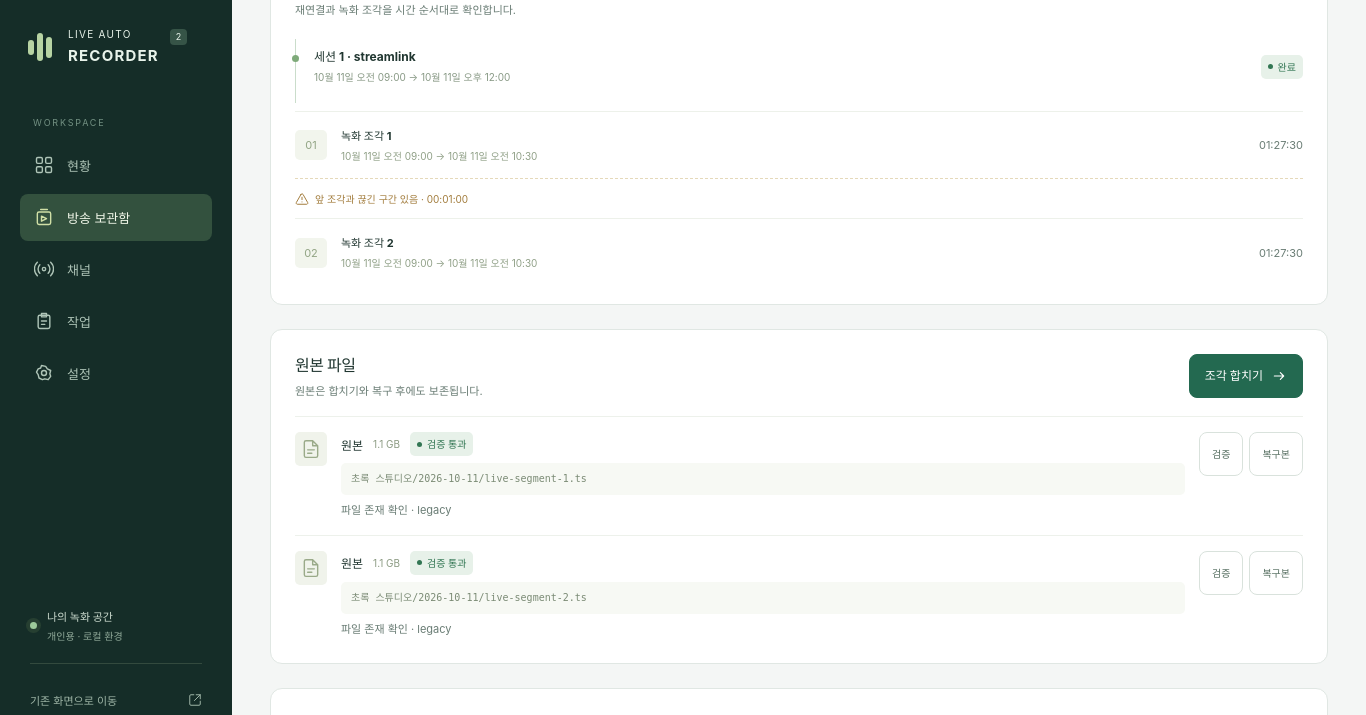
Scenario: merge preview preserves order and submits the observed detail revision
(page scrolled)
Click the button "조각 합치기".
click(1246, 376)  # box [1189,354,1303,398]
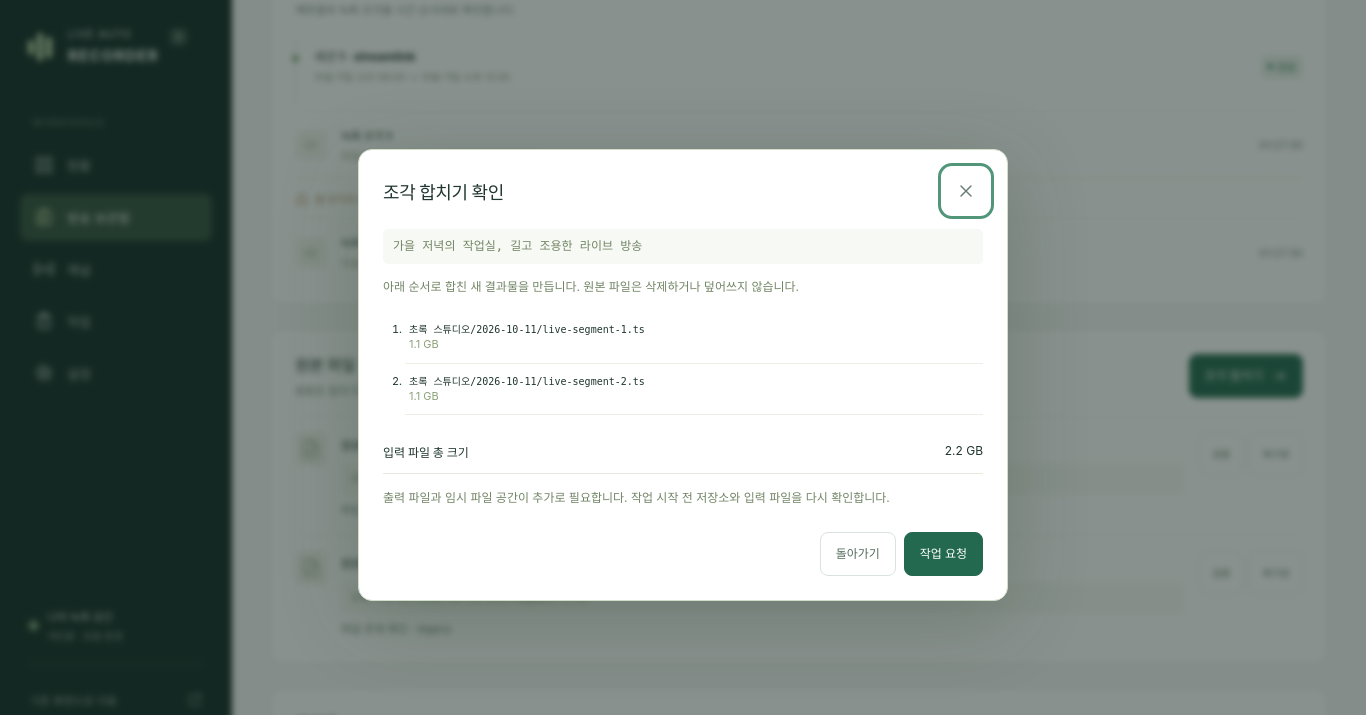
Expected: the list item "초록 스튜디오/2026-10-11/live-segment-1.ts 1.1 GB" is shown, [405,312,983,364]
Expected: the list item "초록 스튜디오/2026-10-11/live-segment-2.ts 1.1 GB" is shown, [405,364,983,415]
Click the button "작업 요청".
click(943, 554)  # box [904,532,983,576]
(page scrolled)
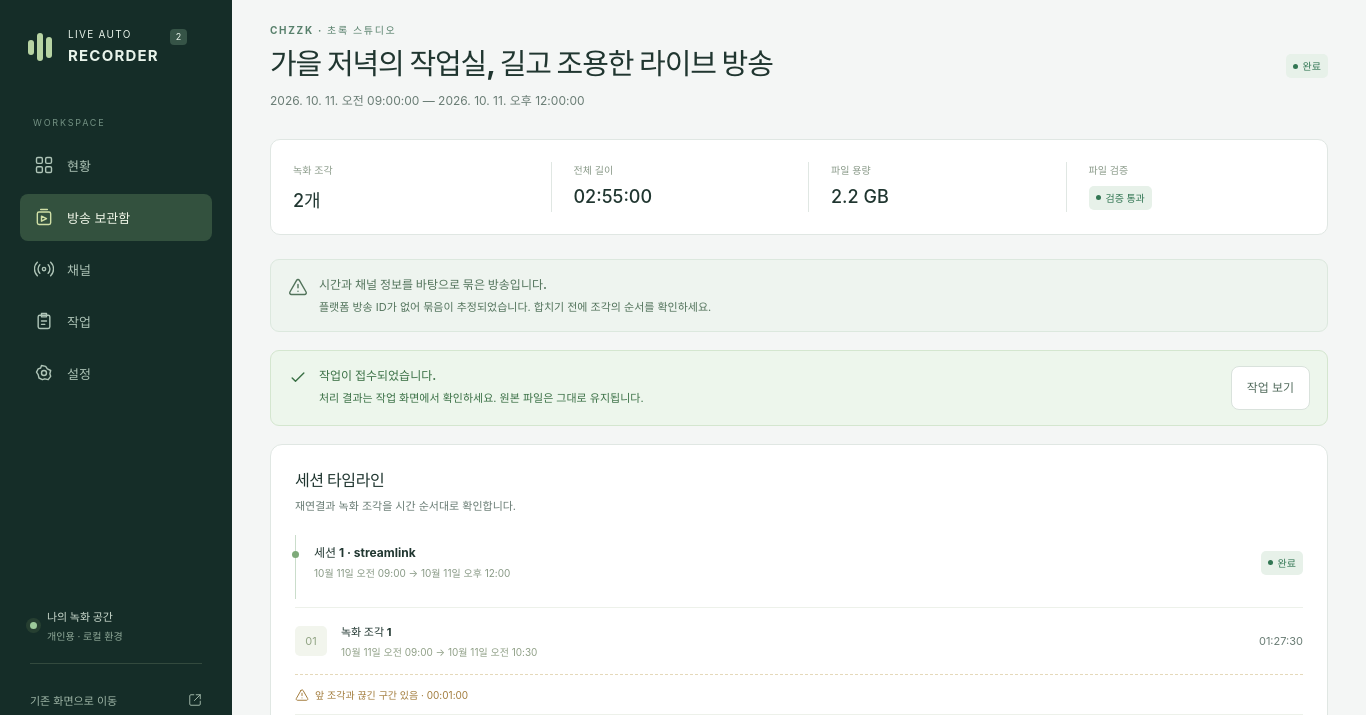
Expected: the text "작업이 접수되었습니다." is shown, [319,368,436,383]
